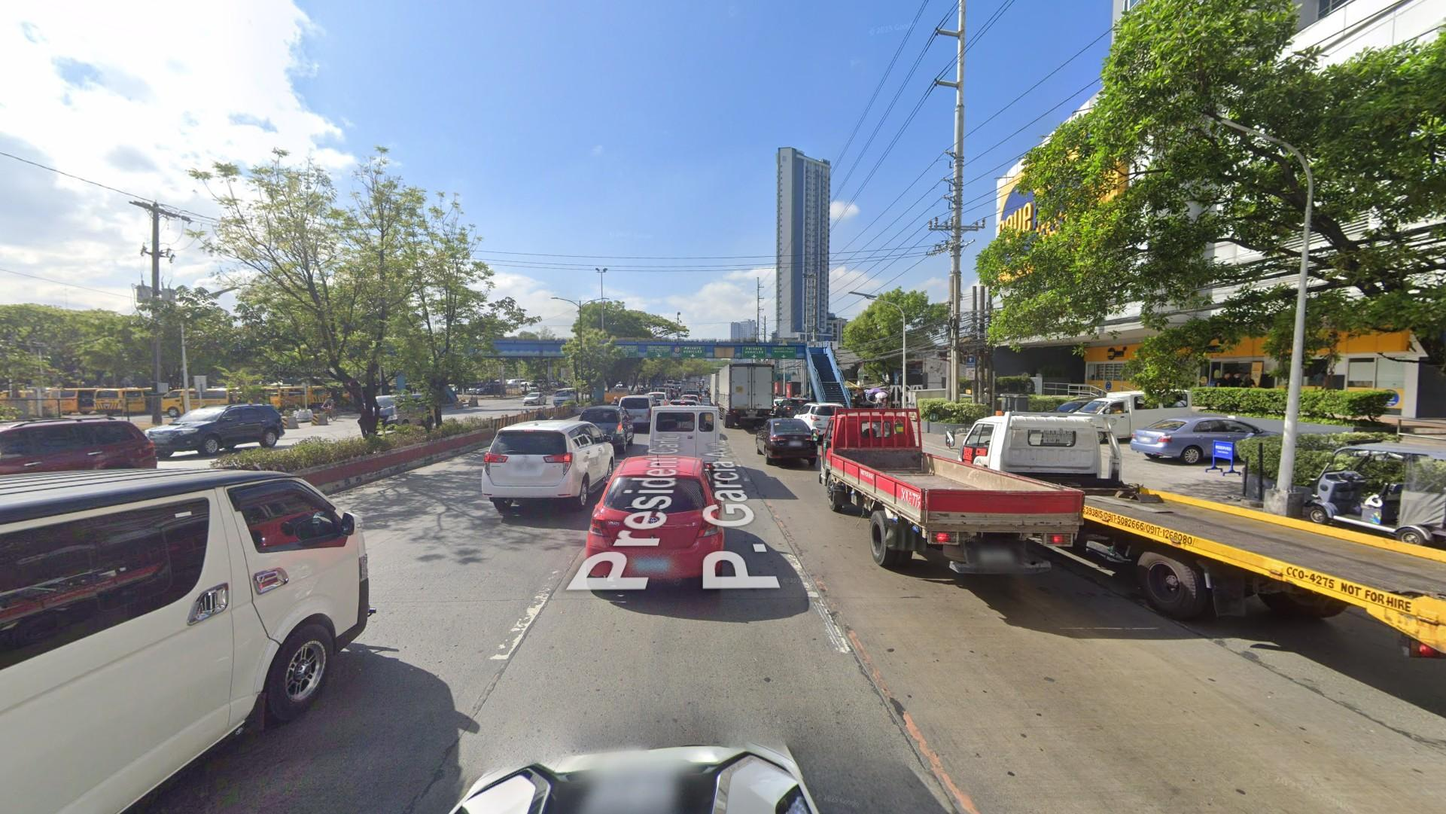cyclist: (320, 395, 338, 421)
pedestrian: (1240, 371, 1258, 408), (1228, 370, 1245, 405), (1215, 370, 1231, 403), (876, 395, 883, 416), (881, 395, 889, 413)
